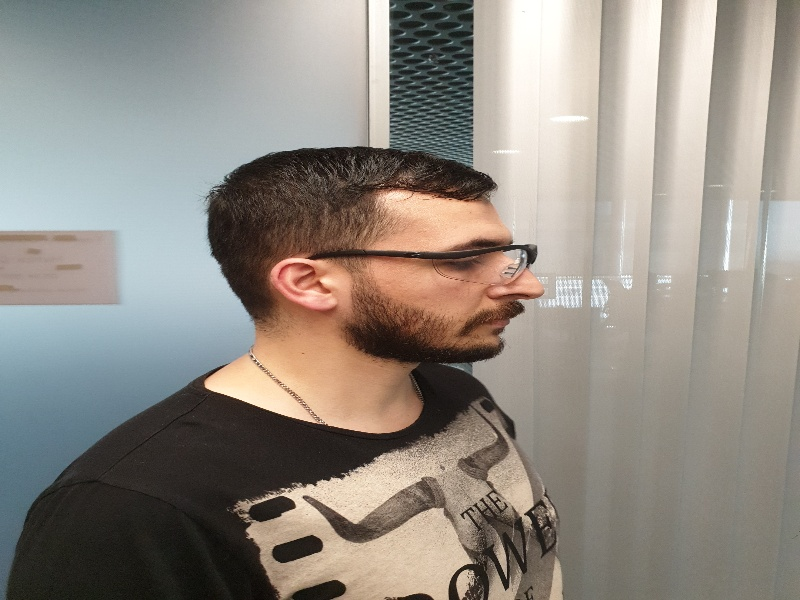Gozluk: (314, 242, 536, 288)
